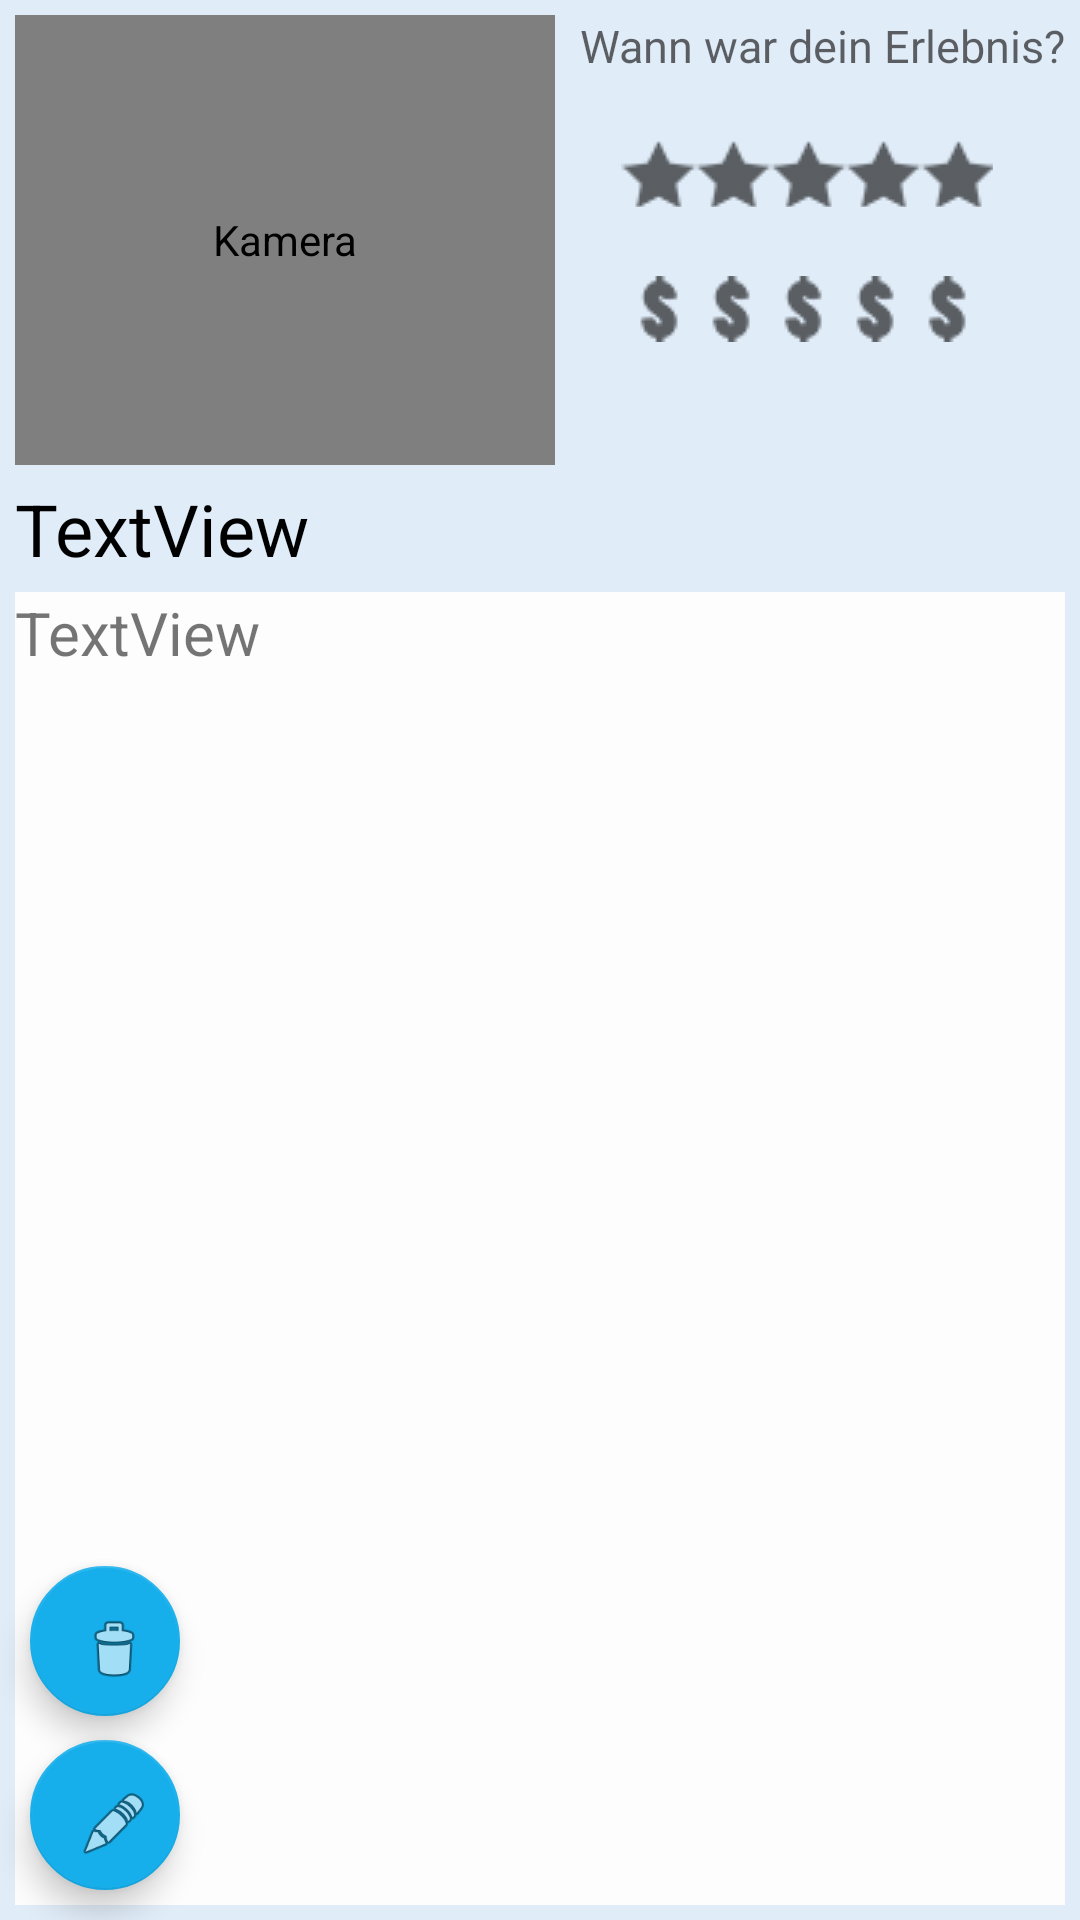

Named icons in this screenshot (1080w x 1920h) and their centers, [x,y]:
delete: [105,1641]
edit: [105,1815]
